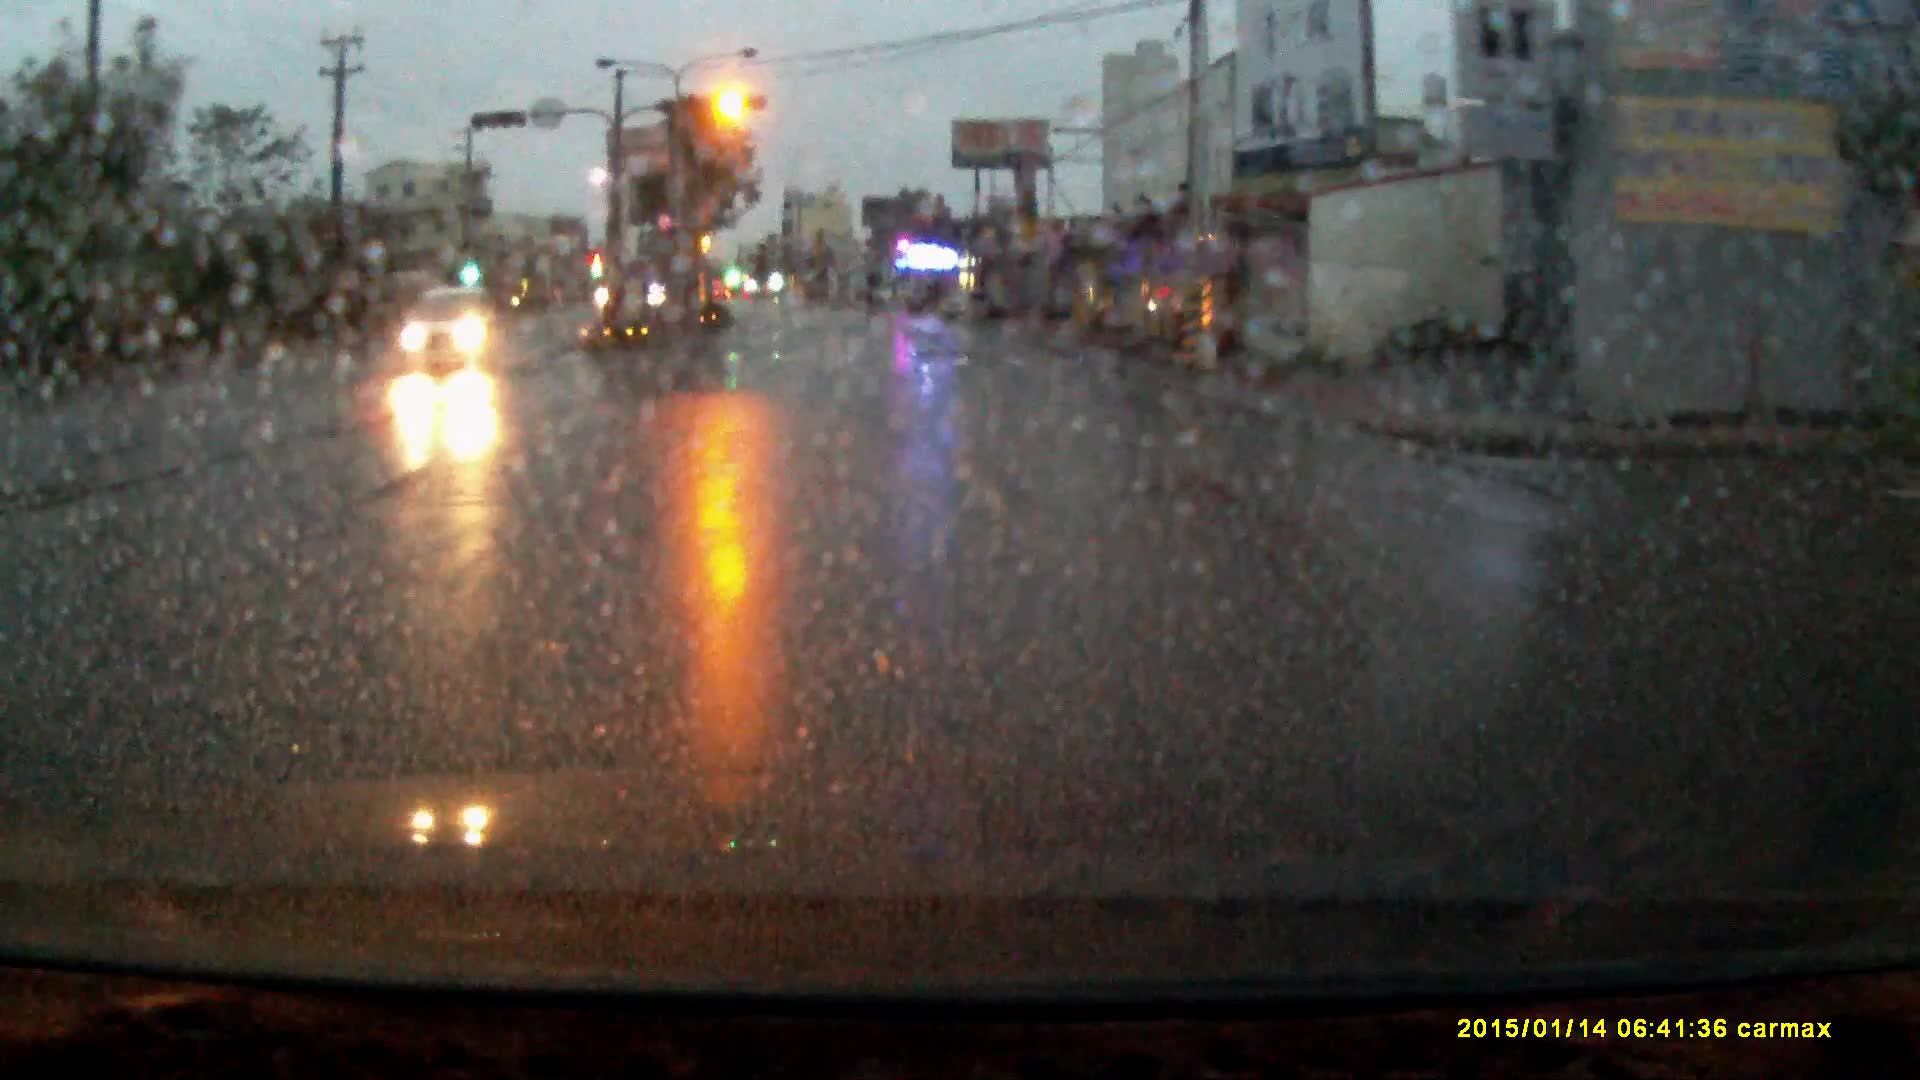vehicle: (404, 286, 504, 371)
